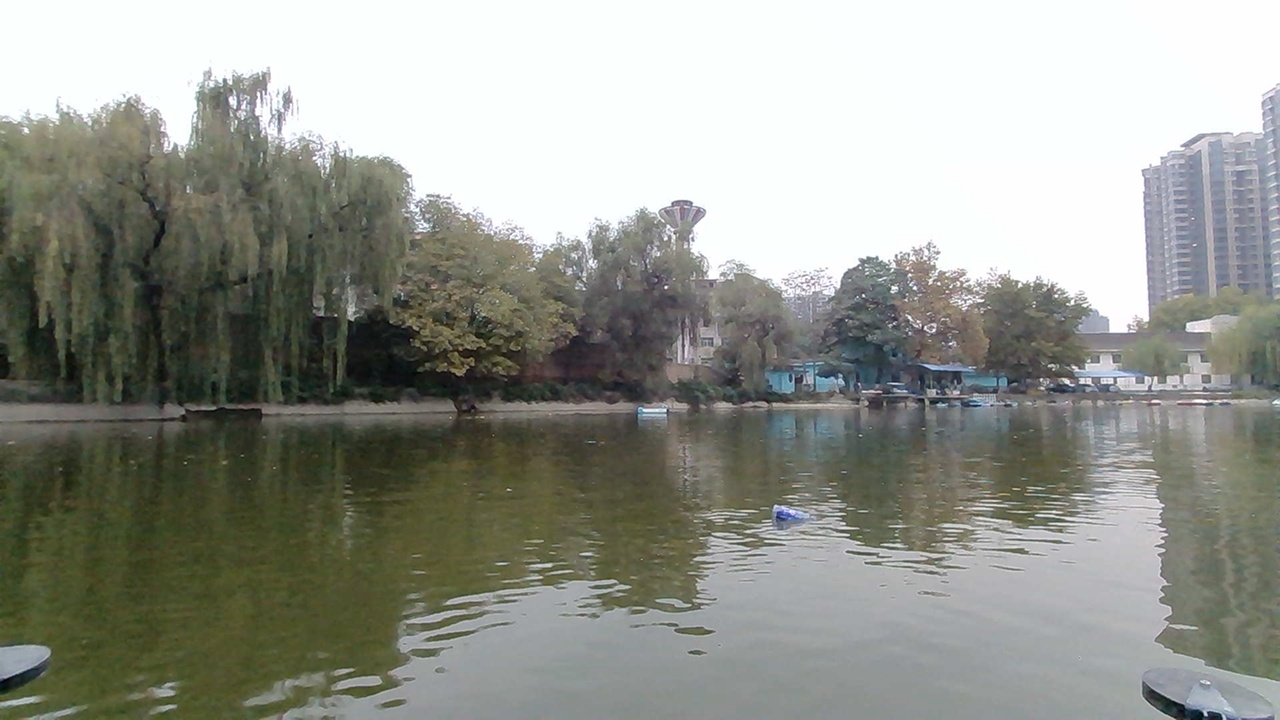bottle: (768, 500, 813, 534)
